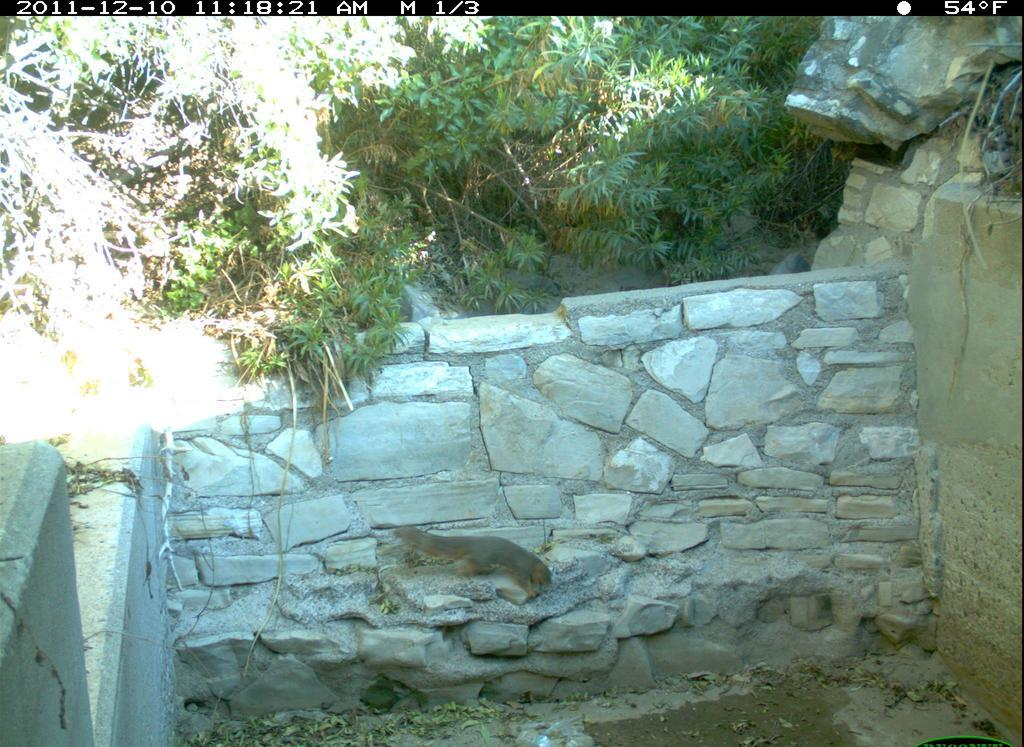squirrel: (391, 514, 562, 606)
